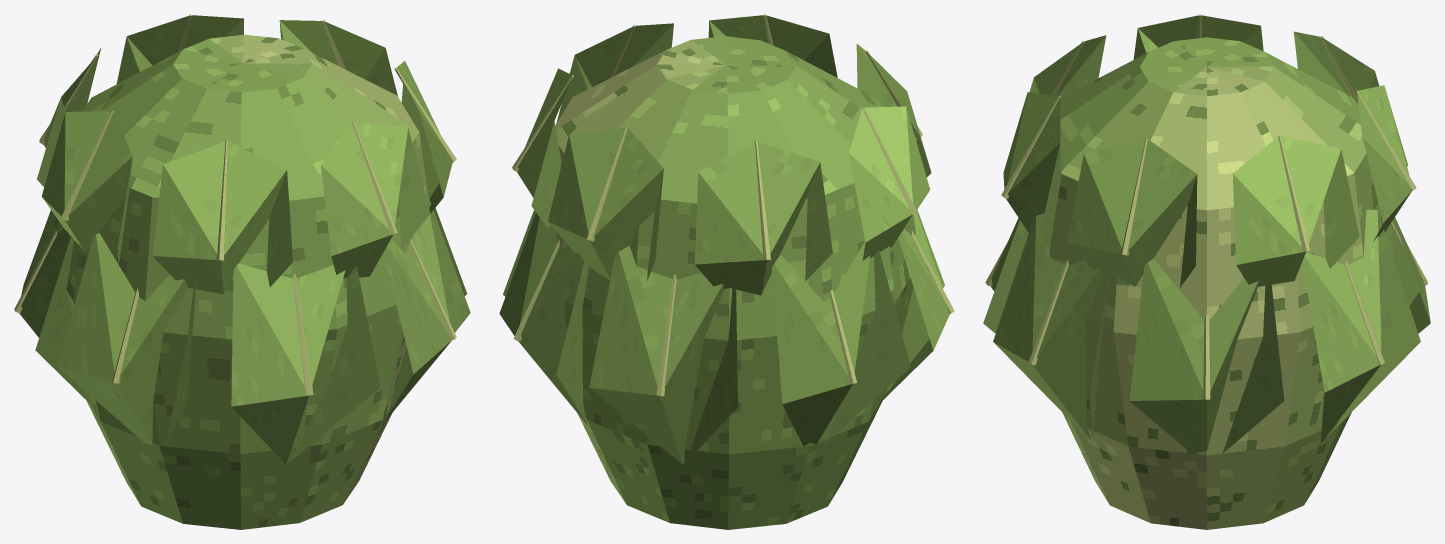
File: lettuce_head.glb
3 renders of one model, left to right at view 1: azimuth 30°, elevation 25°; view 2: azimuth 150°, elevation 25°; view 3: azimuth 270°, elevation 25°, orthographic.
Visible parts, largest first — view 1: block_inner head, block_overlapping cabbage leaf (×19), block_curled cabbage margin (×16), block_leaf rib (×6); view 2: block_inner head, block_overlapping cabbage leaf (×18), block_curled cabbage margin (×18), block_leaf rib (×5); view 3: block_inner head, block_overlapping cabbage leaf (×17), block_curled cabbage margin (×20), block_leaf rib (×5).
Part boxes in pixels (x1=…): block_inner head: x1=53, y1=34, x2=427, y2=529; block_overlapping cabbage leaf (×19): x1=20, y1=36, x2=470, y2=464; block_curled cabbage margin (×16): x1=64, y1=15, x2=449, y2=387; block_leaf rib (×6): x1=61, y1=110, x2=456, y2=395; block_inner head: x1=555, y1=36, x2=915, y2=529; block_overlapping cabbage leaf (×18): x1=499, y1=34, x2=949, y2=464; block_curled cabbage margin (×18): x1=520, y1=15, x2=918, y2=387; block_leaf rib (×5): x1=587, y1=107, x2=917, y2=396; block_inner head: x1=1050, y1=37, x2=1393, y2=529; block_overlapping cabbage leaf (×17): x1=983, y1=32, x2=1430, y2=453; block_curled cabbage margin (×20): x1=1008, y1=15, x2=1409, y2=391; block_leaf rib (×5): x1=1028, y1=135, x2=1384, y2=399.
Size of the model in its own units: 0.2039 by 0.2062 by 0.2021.
2 materials, 2 textured.
